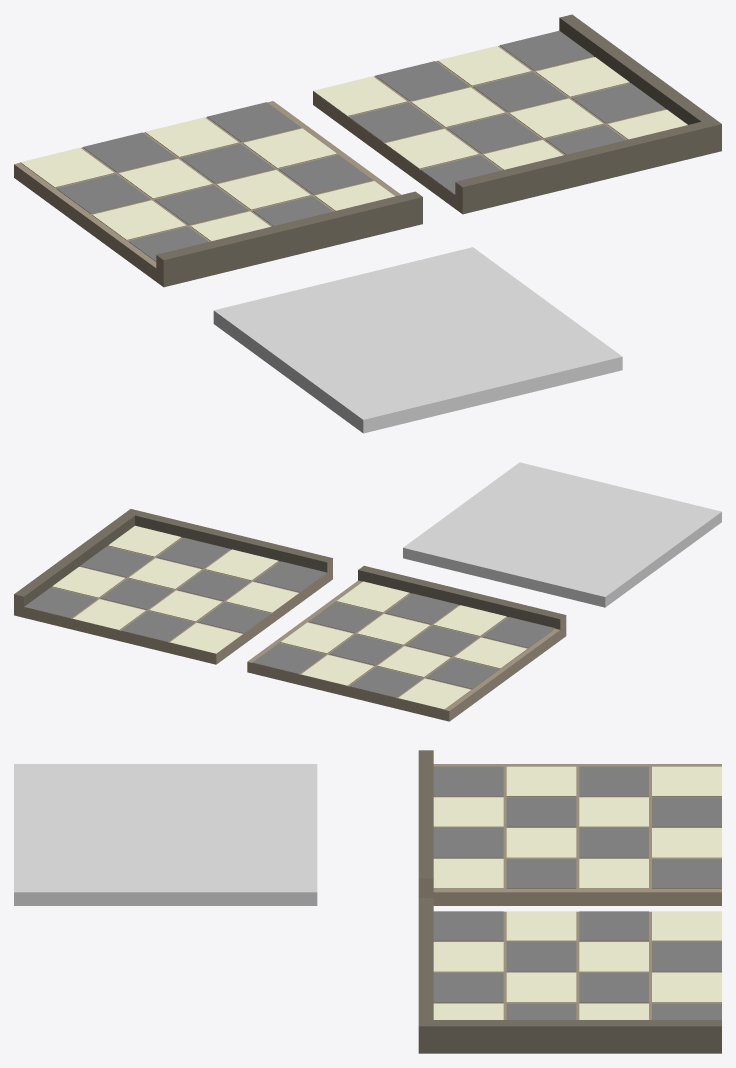
File: themepark_objs.fbx
The picture shows the model from 3 angles, top to bottom: view 1: azimuth 30°, elevation 25°; view 2: azimuth 150°, elevation 25°; view 3: azimuth 270°, elevation 25°; orthographic projection. The views are drawn at different scales.
Parts seen in each view (by area): view 1: Path_Coner, Path_Straight, BasePlane; view 2: Path_Coner, Path_Straight, BasePlane; view 3: Path_Coner, Path_Straight, BasePlane.
Boxes of the visible parts, box(x1,y1,x2,y2) form: Path_Coner: box(313, 14, 721, 214); Path_Straight: box(14, 101, 422, 287); BasePlane: box(213, 247, 622, 433); Path_Coner: box(14, 509, 332, 664); Path_Straight: box(247, 565, 566, 721); BasePlane: box(403, 462, 721, 607); Path_Coner: box(418, 898, 721, 1053); Path_Straight: box(418, 750, 721, 905); BasePlane: box(14, 764, 317, 905).
Size of the model in its own units: 215 by 10 by 233.
